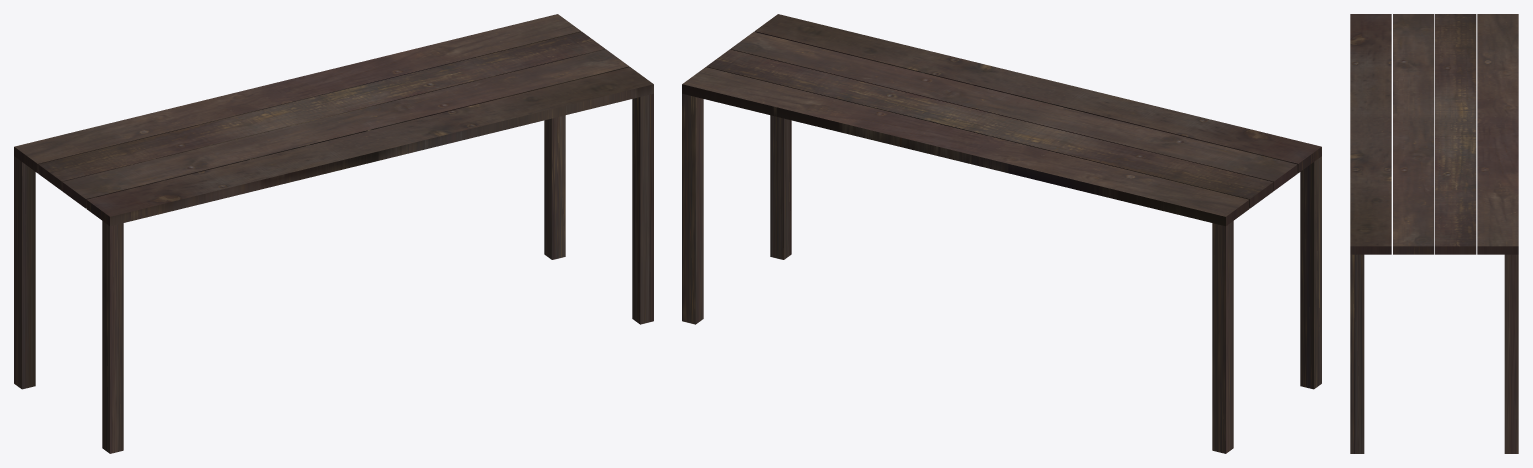
The model's file is Desk.fbx.
3 renders of one model, left to right at view 1: azimuth 30°, elevation 25°; view 2: azimuth 150°, elevation 25°; view 3: azimuth 270°, elevation 25°, orthographic. The views are drawn at different scales.
Parts seen in each view (by area): view 1: DeskLegs; view 2: DeskLegs; view 3: DeskLegs.
Boxes of the visible parts, x1,y1,x2,y2 form: DeskLegs: [14, 14, 653, 453]; DeskLegs: [682, 14, 1321, 453]; DeskLegs: [1350, 14, 1518, 453].
Size of the model in its own units: 152 by 63.5 by 46.58.
